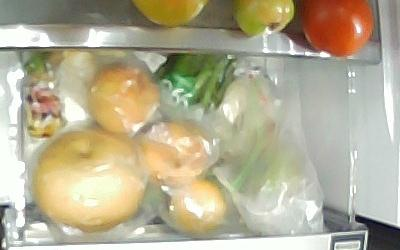peach_vinyl: (89, 63, 161, 133), (142, 120, 210, 185)
pear_vinyl: (32, 130, 146, 232)
tangerine_vinyl: (170, 179, 226, 234)
